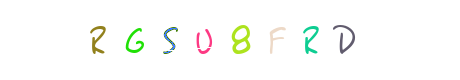8: (190, 0, 270, 80)
D: (305, 0, 385, 80)
F: (193, 0, 273, 80)
G: (94, 0, 174, 80)
R: (77, 0, 157, 80), (232, 0, 312, 80)
S: (164, 0, 244, 80)
U: (187, 0, 267, 80)
